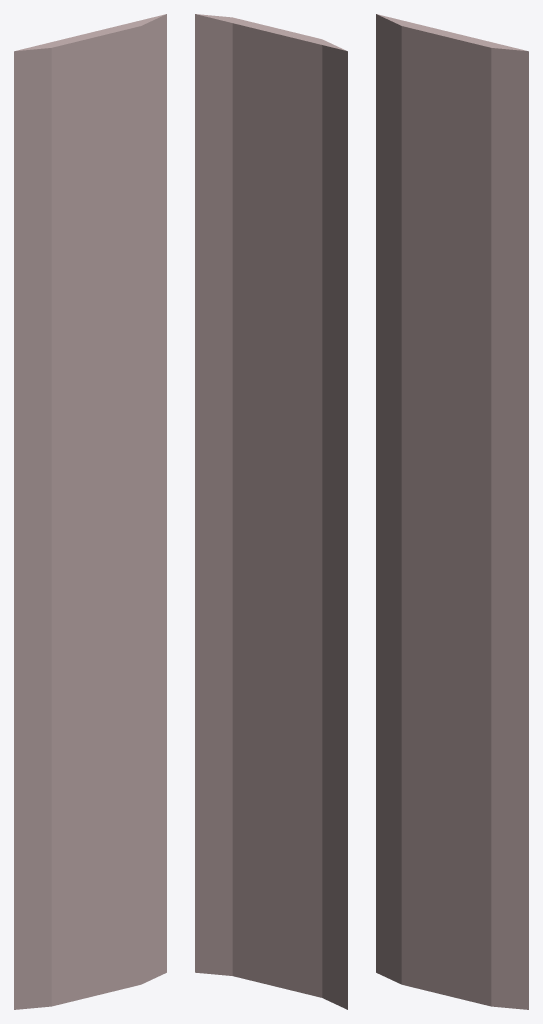
File: BTrimThin.fbx
3 views of the same model, side by side, from view 1: azimuth 30°, elevation 25°; view 2: azimuth 150°, elevation 25°; view 3: azimuth 330°, elevation 25° (orthographic).
Parts seen in each view (by area): view 1: BTrimThin; view 2: BTrimThin; view 3: BTrimThin.
Part boxes in pixels (x1,y1,x2,y2): BTrimThin: (14,14,166,1009); BTrimThin: (195,14,347,1009); BTrimThin: (376,14,528,1009).
Bounding box in the file's own units: 100 × 600 × 6.67.
